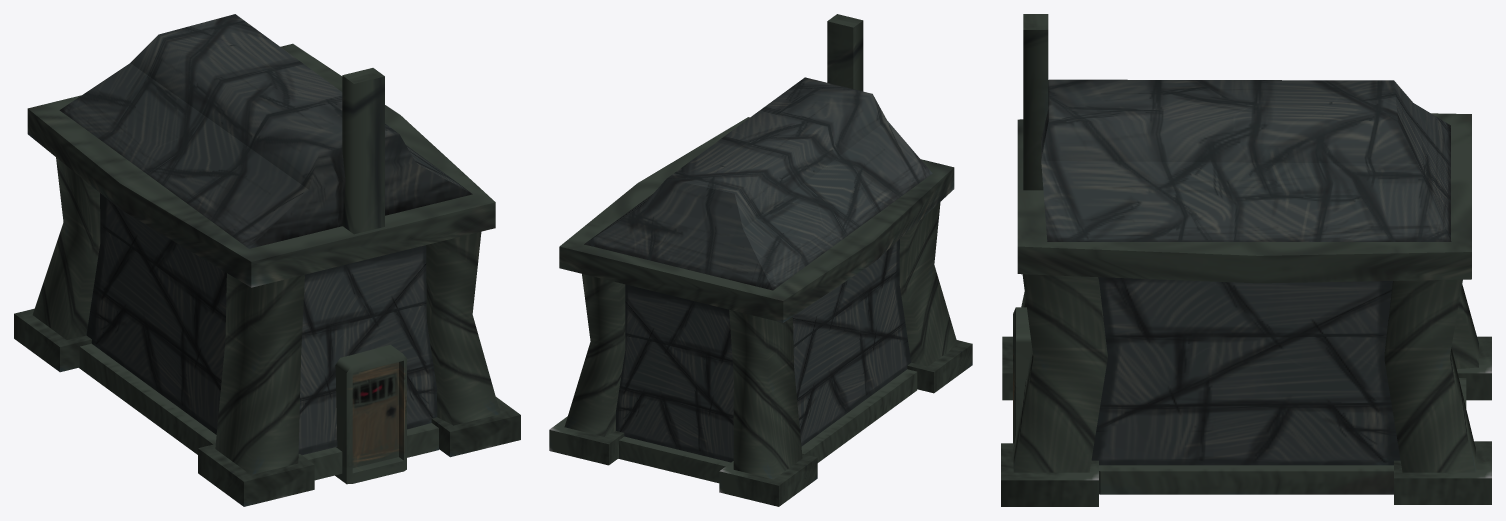
Rendered from Crypt.fbx.
The picture shows the model from 3 angles, left to right: view 1: azimuth 30°, elevation 25°; view 2: azimuth 150°, elevation 25°; view 3: azimuth 270°, elevation 25°; orthographic projection. The views are drawn at different scales.
Visible parts, largest first — view 1: polySurface14; view 2: polySurface14; view 3: polySurface14.
Part boxes in pixels (x1=…): polySurface14: x1=14, y1=14, x2=520, y2=506; polySurface14: x1=549, y1=14, x2=972, y2=506; polySurface14: x1=1001, y1=14, x2=1491, y2=506.
Size of the model in its own units: 13.7 by 18.45 by 19.5.
